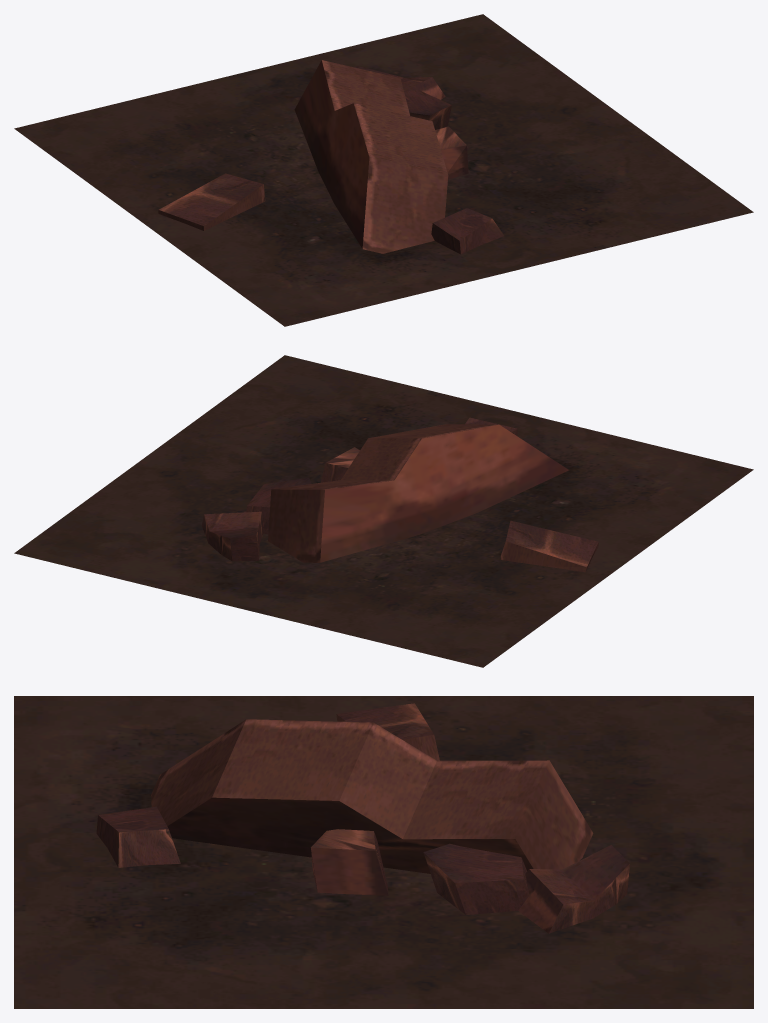
The model's file is lava_rubble_02.fbx.
The picture shows the model from 3 angles, top to bottom: view 1: azimuth 30°, elevation 25°; view 2: azimuth 150°, elevation 25°; view 3: azimuth 270°, elevation 25°; orthographic projection. The views are drawn at different scales.
Parts seen in each view (by area): view 1: obj1.024; view 2: obj1.024; view 3: obj1.024.
Part boxes in pixels (x1,y1,x2,y2): obj1.024: (14, 14, 753, 326); obj1.024: (14, 355, 753, 667); obj1.024: (14, 696, 753, 1008).
Size of the model in its own units: 4 by 1.04 by 4.
